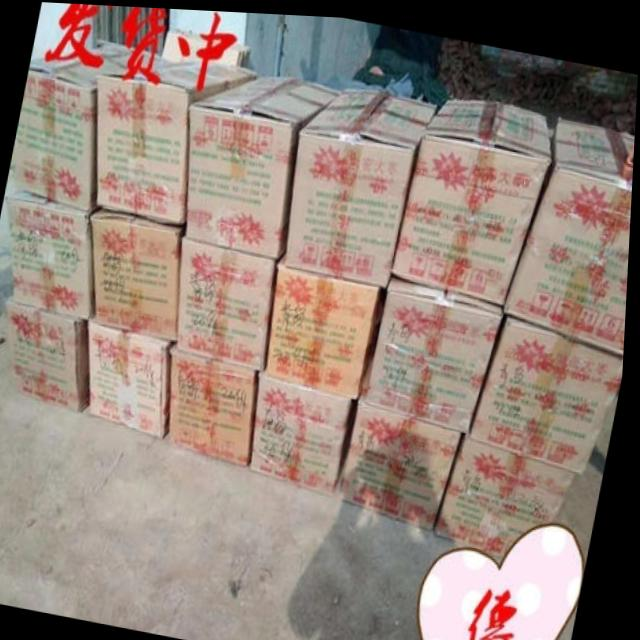box: (395, 95, 554, 301), (507, 116, 636, 350), (288, 85, 438, 283), (188, 70, 343, 258), (15, 36, 173, 212), (97, 57, 256, 226), (475, 310, 627, 466), (368, 270, 507, 429), (441, 429, 582, 555), (269, 252, 392, 394), (343, 394, 465, 527), (180, 234, 279, 369), (256, 370, 362, 491), (91, 207, 186, 340), (7, 187, 98, 320), (170, 341, 258, 467), (7, 297, 94, 413), (92, 321, 175, 436)
